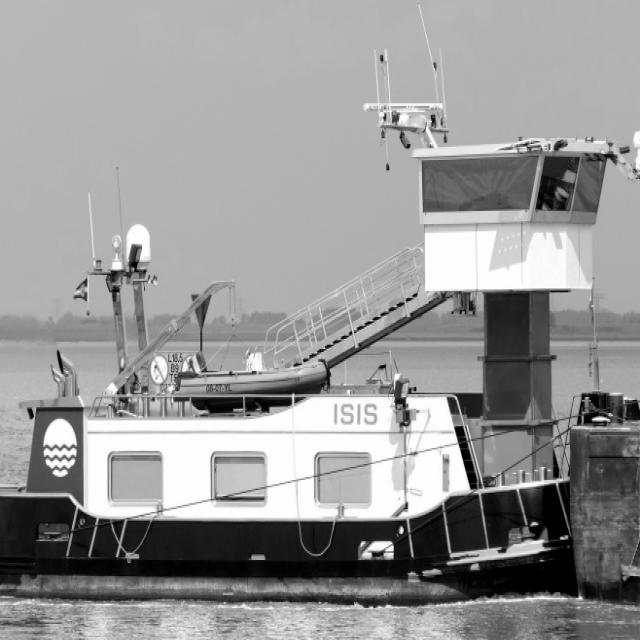tugboat: (1, 96, 640, 616)
